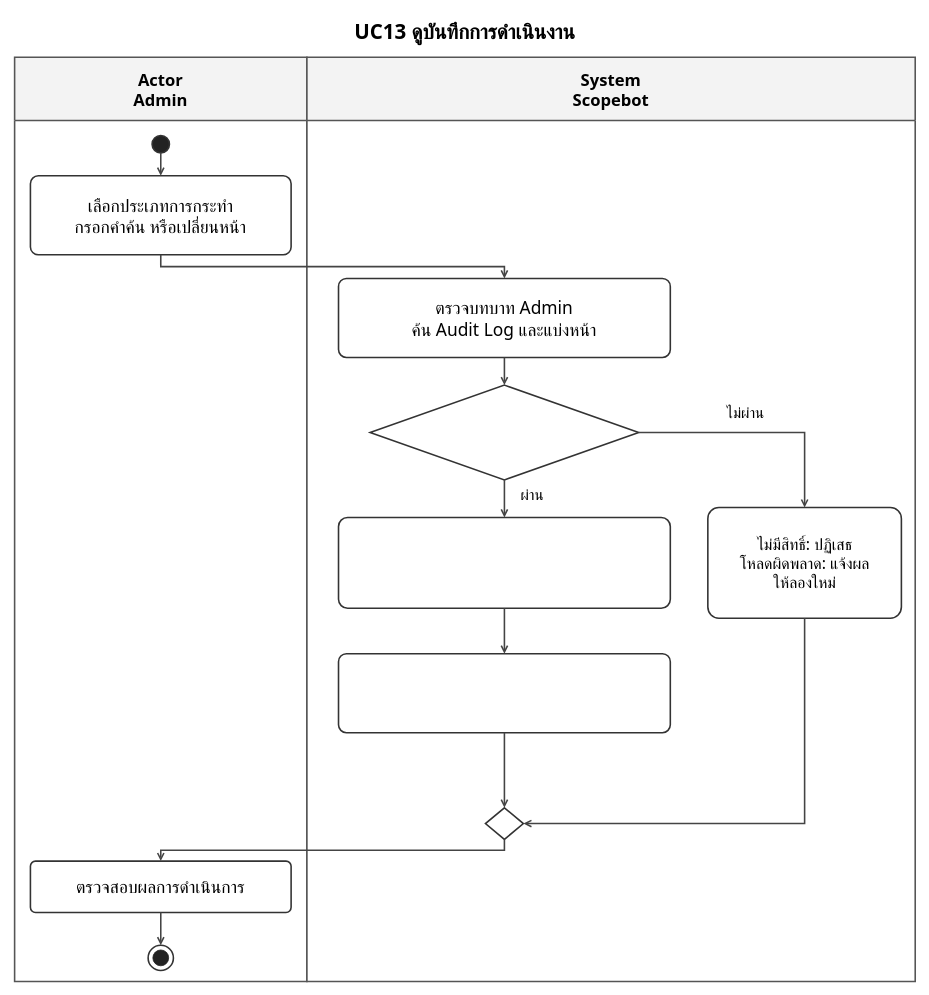
The diagram is 929 pixels wide and 995 high, and some of its shapes have lost their labels. The centre of each missing label's shape, as x and y in pixels:
มีสิทธิ์และโหลดสำเร็จ: (504,432)
เรียงรายการล่าสุดก่อน อ่านผู้กระทำ เป้าหมาย และรายละเอียด: (504,562)
แสดงรายการพร้อมเวลา หรือแสดงสถานะไม่มีข้อมูล: (504,693)
